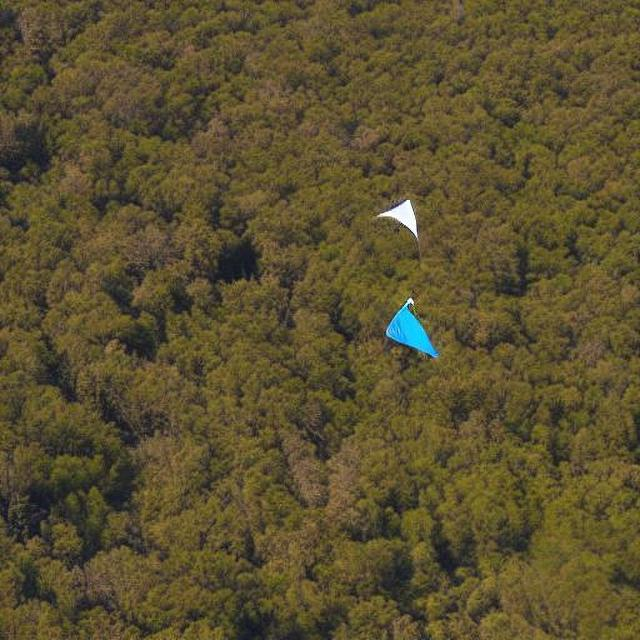floating object: (384, 296, 438, 358), (374, 198, 420, 249)
